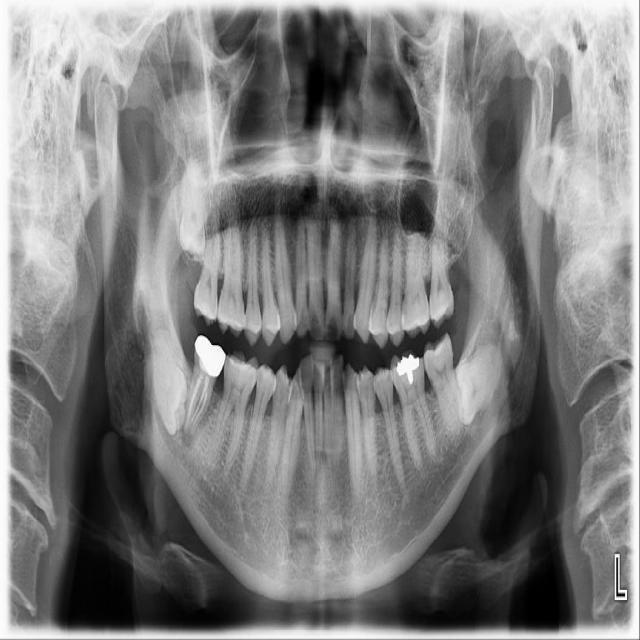Crown: (194, 335, 226, 378)
Filling: (392, 354, 421, 385)
Periapical lesion: (177, 417, 204, 447), (236, 463, 256, 495)
Root Canal Treatment: (191, 376, 209, 420), (187, 373, 203, 418), (193, 392, 208, 424), (621, 611, 632, 618)
impacted tooth: (148, 331, 186, 433), (458, 341, 507, 418), (179, 160, 204, 257)
